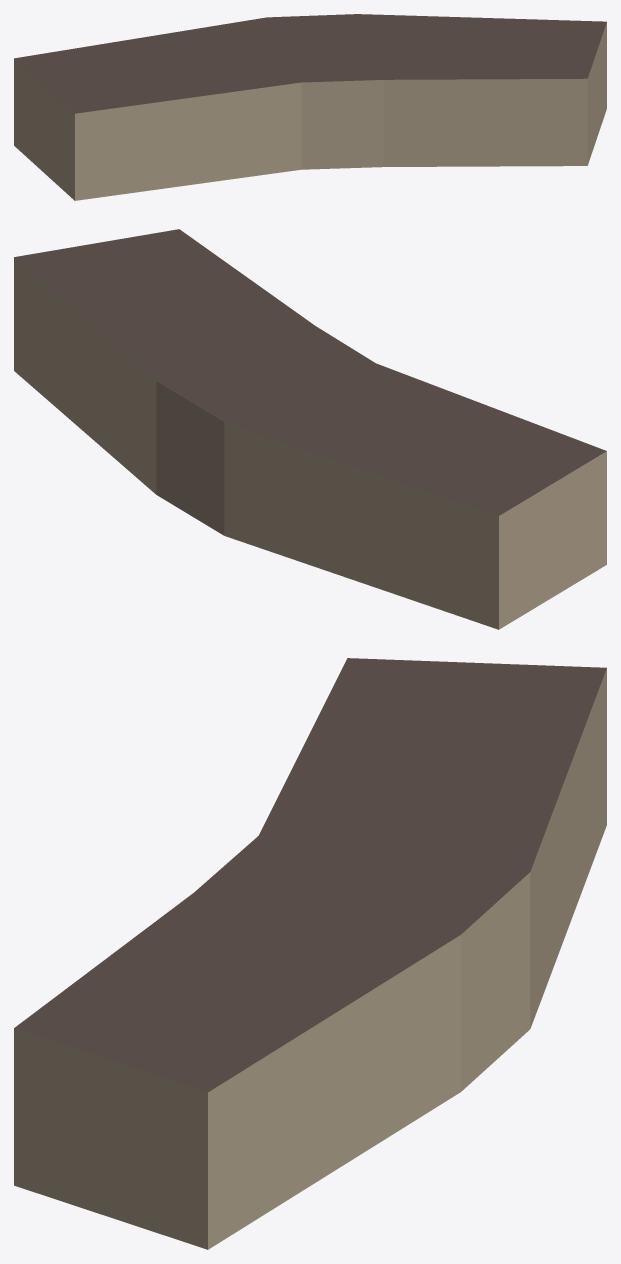
3 views of the same model, one above another, from view 1: azimuth 30°, elevation 25°; view 2: azimuth 150°, elevation 25°; view 3: azimuth 270°, elevation 25° (orthographic). The views are drawn at different scales.
Visible parts, largest first — view 1: HP-w1199664103; view 2: HP-w1199664103; view 3: HP-w1199664103.
Part boxes in pixels (x1,y1,x2,y2): HP-w1199664103: [14, 14, 606, 200]; HP-w1199664103: [14, 229, 606, 629]; HP-w1199664103: [14, 658, 606, 1249].
Size of the model in its own units: 53.28 by 9 by 30.73.
